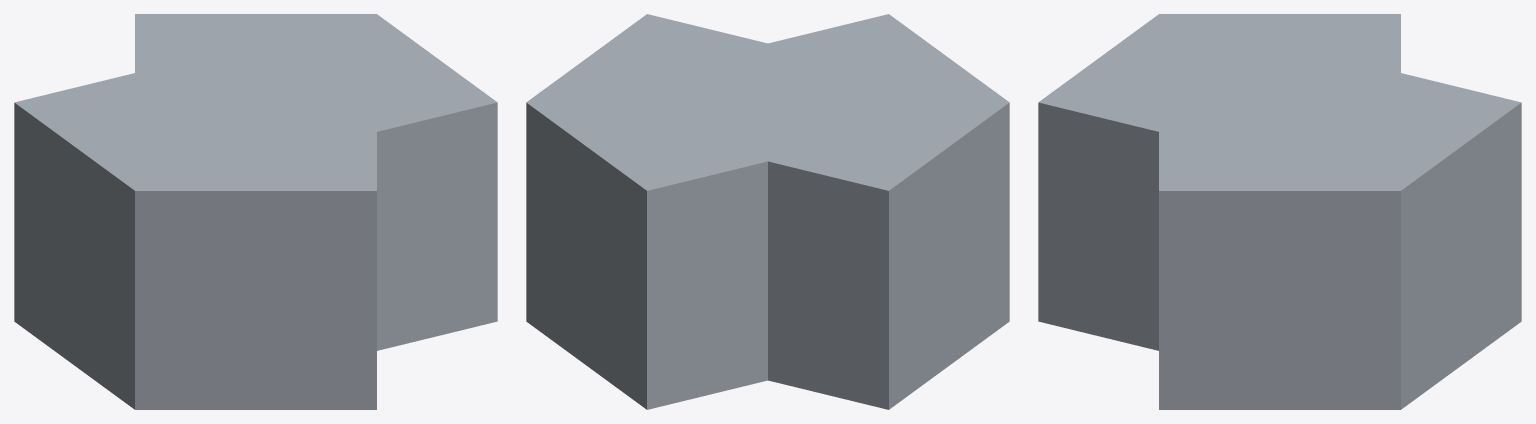
File: wall_cross3.fbx
The picture shows the model from 3 angles, left to right: view 1: azimuth 30°, elevation 25°; view 2: azimuth 150°, elevation 25°; view 3: azimuth 270°, elevation 25°; orthographic projection.
Parts seen in each view (by area): view 1: Cylinder; view 2: Cylinder; view 3: Cylinder.
Boxes of the visible parts, left/top/right/bottom form: Cylinder: left=14, top=14, right=497, bottom=409; Cylinder: left=526, top=14, right=1009, bottom=409; Cylinder: left=1038, top=14, right=1521, bottom=409.
Bounding box in the file's own units: 1.73 × 1 × 2.
